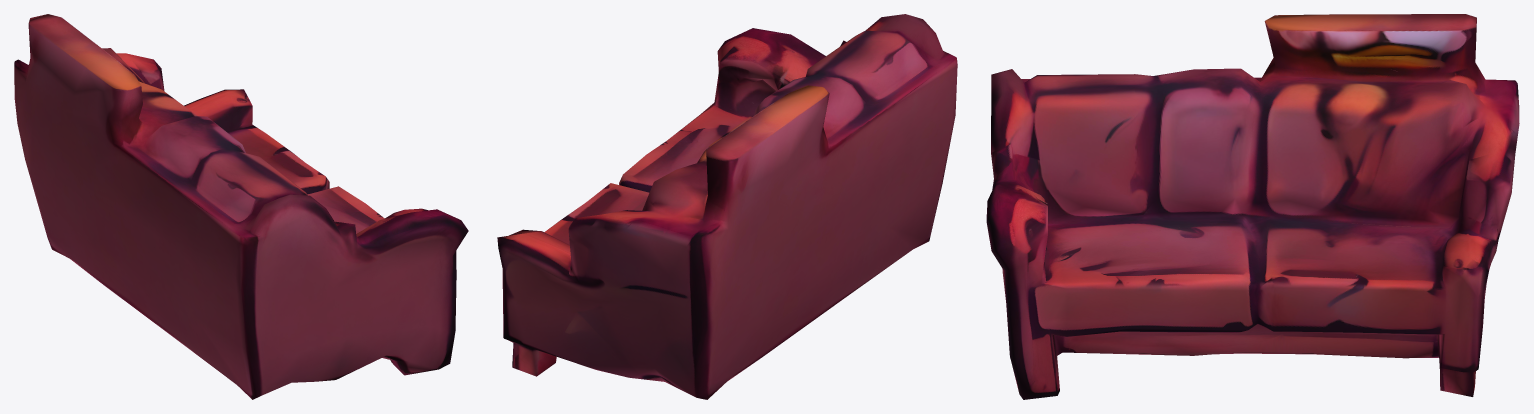
File: sofa+3d+model.obj
3 views of the same model, side by side, from view 1: azimuth 30°, elevation 25°; view 2: azimuth 150°, elevation 25°; view 3: azimuth 270°, elevation 25° (orthographic). The views are drawn at different scales.
Visible parts, largest first — view 1: tripo_node_deb2b10c-df88-44bc-aa08-817a1e913a8a; view 2: tripo_node_deb2b10c-df88-44bc-aa08-817a1e913a8a; view 3: tripo_node_deb2b10c-df88-44bc-aa08-817a1e913a8a.
Boxes of the visible parts, x1,y1,x2,y2 form: tripo_node_deb2b10c-df88-44bc-aa08-817a1e913a8a: (14,14,468,399); tripo_node_deb2b10c-df88-44bc-aa08-817a1e913a8a: (497,14,957,399); tripo_node_deb2b10c-df88-44bc-aa08-817a1e913a8a: (986,14,1519,399).
Bounding box in the file's own units: 0.5425 × 0.5667 × 1.
1 material, 1 textured.
